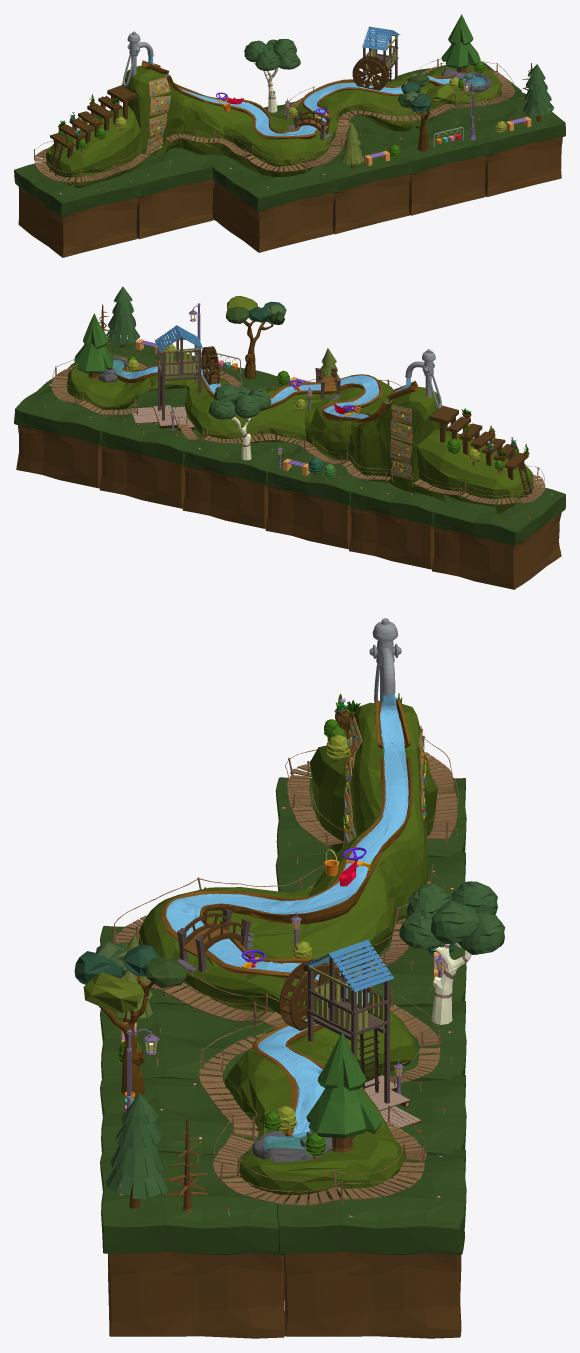
File: tile_stream.min.gltf
3 views of the same model, one above another, from view 1: azimuth 30°, elevation 25°; view 2: azimuth 150°, elevation 25°; view 3: azimuth 270°, elevation 25° (orthographic). The views are drawn at different scales.
Parts seen in each view (by area): view 1: CENTERED.035, ground.001, side railing.000, stairs.001, stream.000, Cube.030, long stream.000, tree trunk.006, climbing wall.002, christmas tree.002, hut.001, side railing.001 (+6 smaller); view 2: CENTERED.035, ground.001, hut.001, stairs.001, Cube.030, tree trunk.006, side railing.002, long stream.000, stream.000, side railing.000, christmas tree.002, climbing wall.003 (+6 smaller); view 3: CENTERED.035, ground.001, stream.000, side railing.000, Cube.030, hut.001, tree trunk.006, long stream.000, christmas tree.002, christmas tree.016, side railing.001, side railing.002 (+7 smaller).
Boxes of the visible parts, x1,y1,x2,y2 form: CENTERED.035: (14, 62, 565, 257); ground.001: (45, 64, 501, 187); side railing.000: (165, 58, 514, 171); stairs.001: (50, 85, 137, 157); stream.000: (148, 56, 450, 136); Cube.030: (244, 39, 300, 112); long stream.000: (165, 73, 453, 139); tree trunk.006: (398, 74, 454, 151); climbing wall.002: (146, 77, 170, 155); christmas tree.002: (441, 14, 480, 72); hut.001: (362, 26, 399, 84); side railing.001: (34, 141, 150, 184); CENTERED.035: (14, 336, 565, 589); ground.001: (67, 361, 533, 513); hut.001: (155, 325, 202, 420); stairs.001: (429, 405, 528, 480); Cube.030: (208, 383, 271, 460); tree trunk.006: (226, 296, 286, 378); side railing.002: (178, 416, 392, 484); long stream.000: (114, 359, 392, 424); stream.000: (121, 363, 411, 418); side railing.000: (51, 348, 401, 444); christmas tree.002: (74, 313, 113, 378); climbing wall.003: (389, 404, 413, 479); CENTERED.035: (100, 777, 466, 1338); ground.001: (139, 702, 437, 1200); stream.000: (166, 694, 408, 1139); side railing.000: (112, 866, 427, 1205); Cube.030: (399, 881, 505, 1024); hut.001: (303, 939, 394, 1109); tree trunk.006: (74, 942, 186, 1096); long stream.000: (161, 757, 412, 1138); christmas tree.002: (306, 1032, 382, 1152); christmas tree.016: (105, 1093, 167, 1208); side railing.001: (285, 735, 458, 849); side railing.002: (354, 864, 445, 1086).
Bounding box in the file's own units: 6.07 × 2.31 × 2.45.
